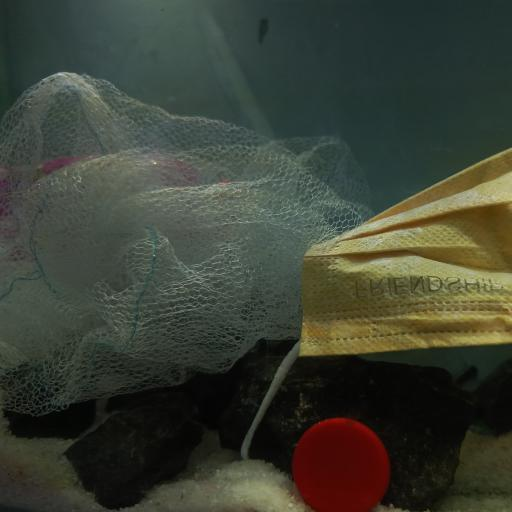bottle_cap: (289, 416, 393, 512)
mask: (244, 145, 512, 449)
net: (4, 72, 371, 417)
plastic_bottle: (6, 145, 234, 266)
